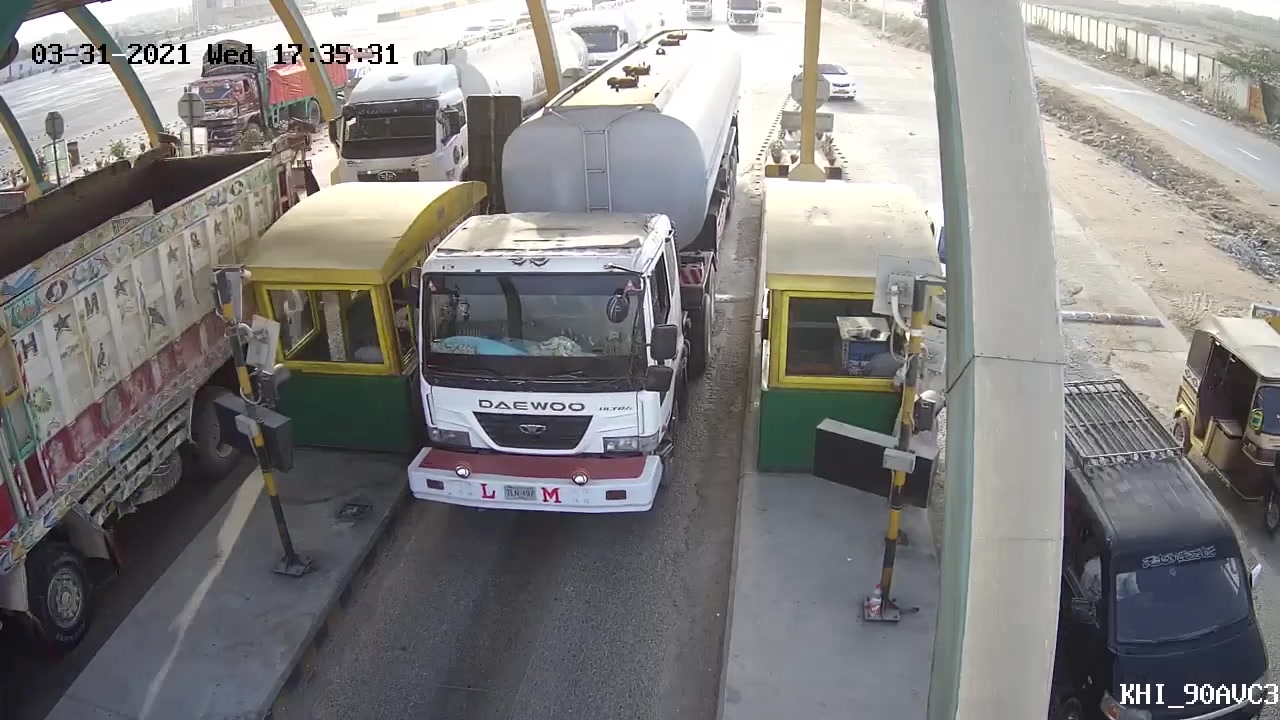F6: (407, 21, 752, 525)
